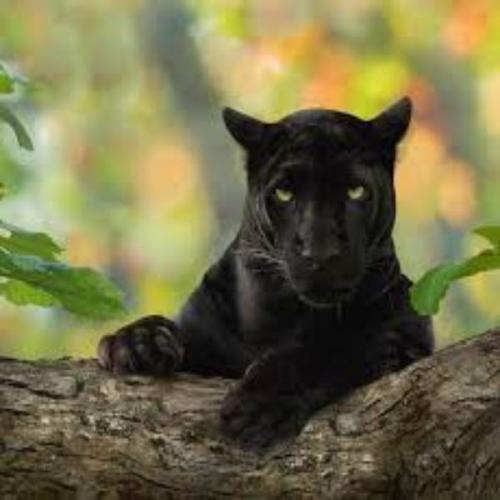panther-endangered: (97, 96, 434, 448)
